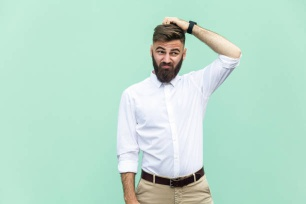male: (145, 28, 186, 78)
